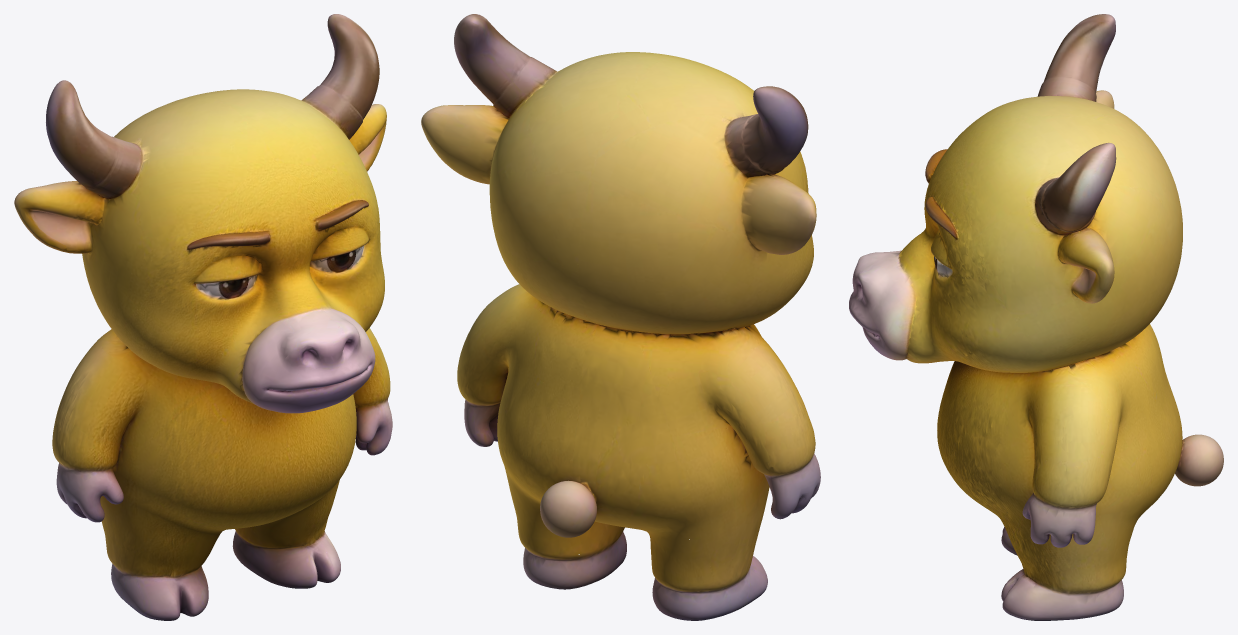
File: niu-lai.glb
3 renders of one model, left to right at view 1: azimuth 30°, elevation 25°; view 2: azimuth 150°, elevation 25°; view 3: azimuth 270°, elevation 25°, orthographic. The views are drawn at different scales.
Parts seen in each view (by area): view 1: tripo_node_71c0f310-bef1-4596-bac5-97cda9169a9e; view 2: tripo_node_71c0f310-bef1-4596-bac5-97cda9169a9e; view 3: tripo_node_71c0f310-bef1-4596-bac5-97cda9169a9e.
Part boxes in pixels (bbox=[...]): tripo_node_71c0f310-bef1-4596-bac5-97cda9169a9e: bbox=[14, 14, 392, 620]; tripo_node_71c0f310-bef1-4596-bac5-97cda9169a9e: bbox=[421, 14, 820, 620]; tripo_node_71c0f310-bef1-4596-bac5-97cda9169a9e: bbox=[849, 14, 1223, 620].
Size of the model in its own units: 0.7342 by 0.9796 by 0.6678.
1 material, 1 textured.
